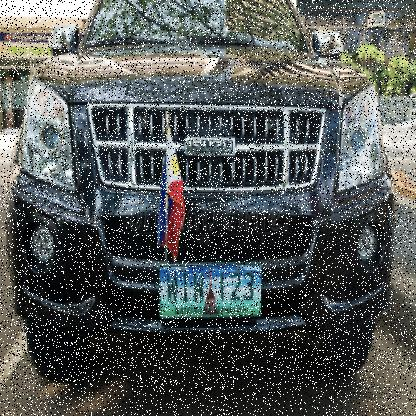licence: (158, 263, 263, 318)
